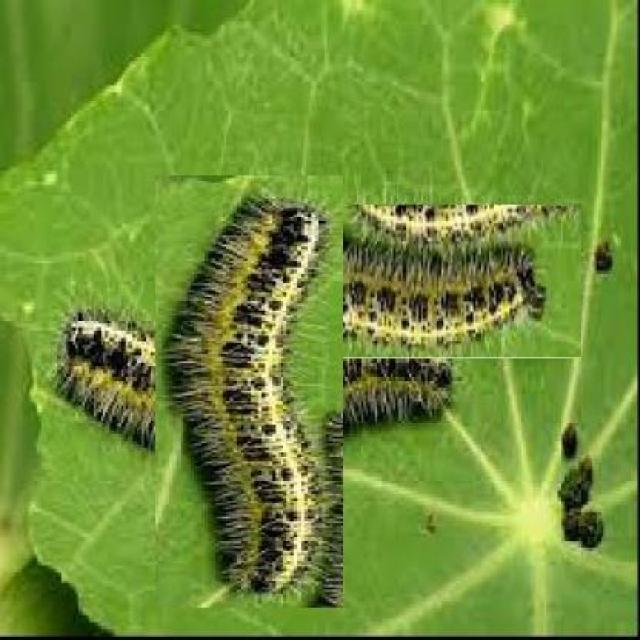Plaga: (94, 236, 406, 548), (225, 204, 582, 360)
